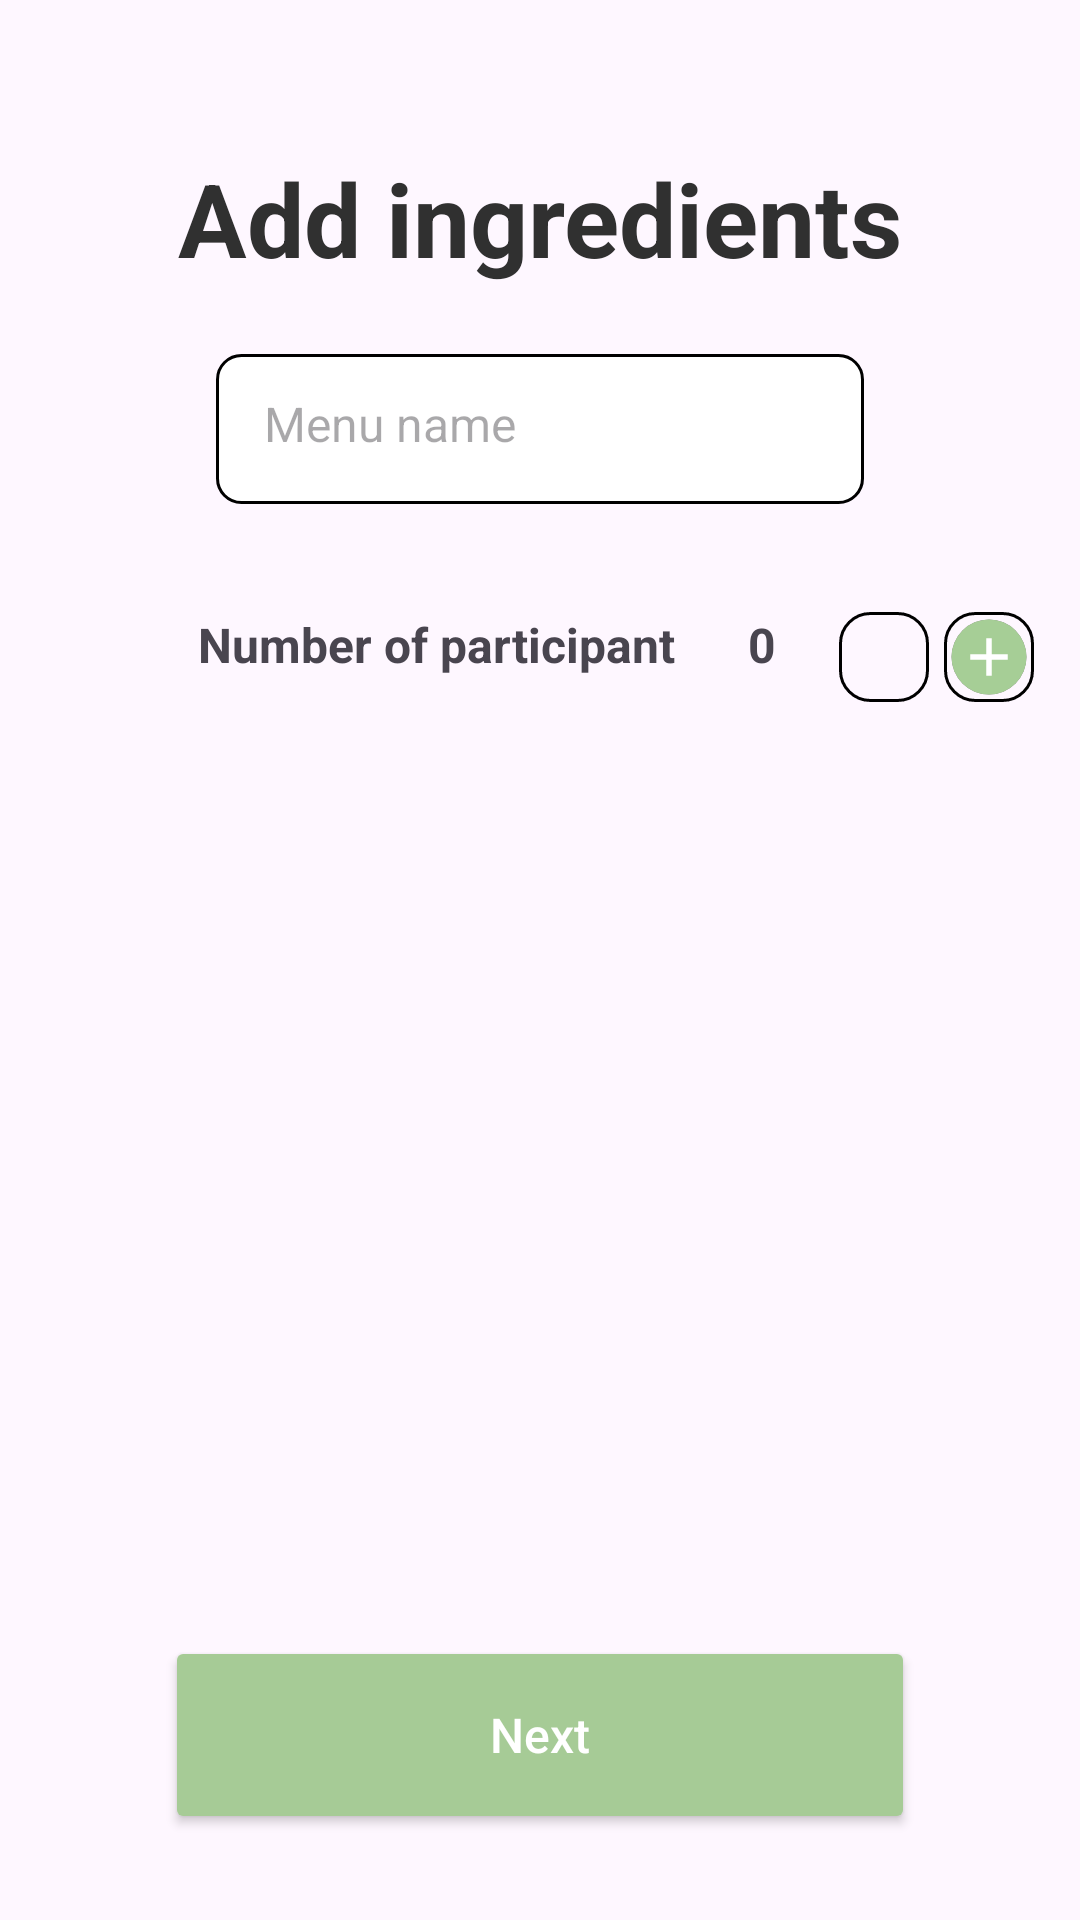

Icons on this 1080px×1920px Android screen, each with its box as detection(x1, y1, x2, y2):
add: detection(944, 612, 1034, 702)
